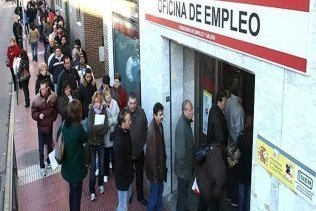person: (173, 98, 199, 145), (122, 89, 146, 126), (111, 107, 134, 141), (149, 101, 169, 138), (32, 77, 56, 100), (87, 91, 104, 122), (213, 89, 227, 125)
